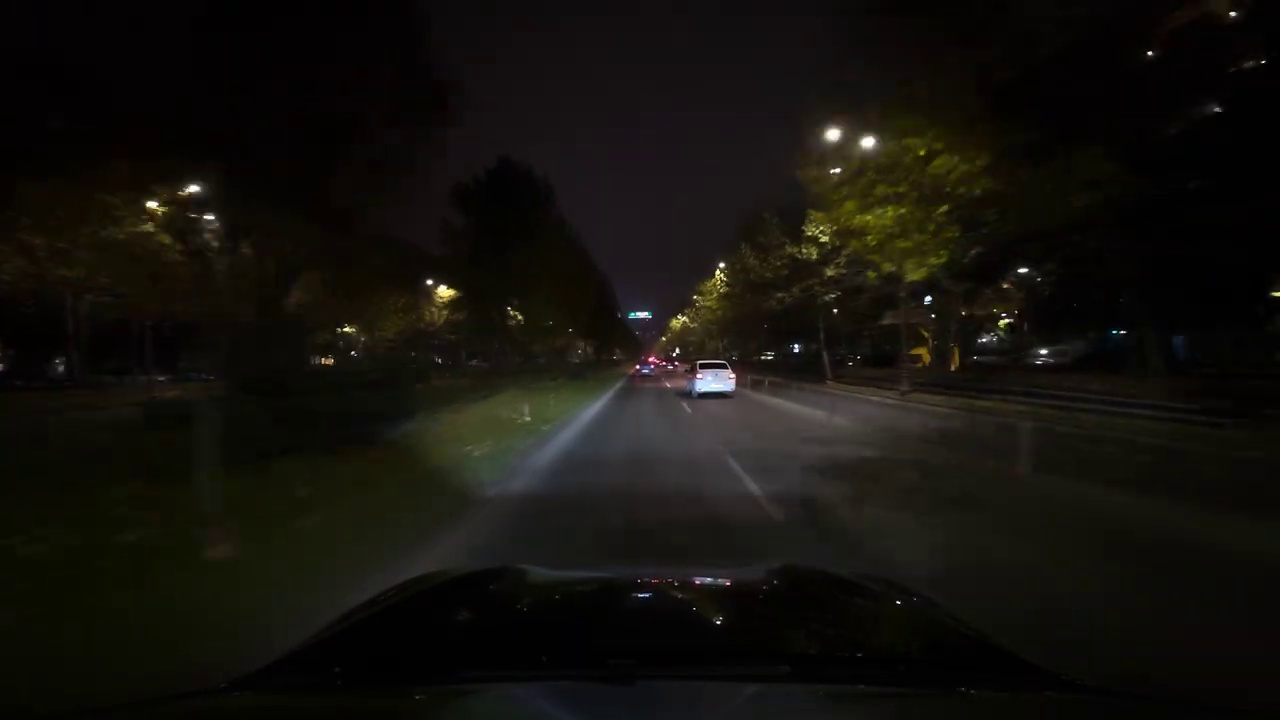acesa: (819, 122, 845, 148)
